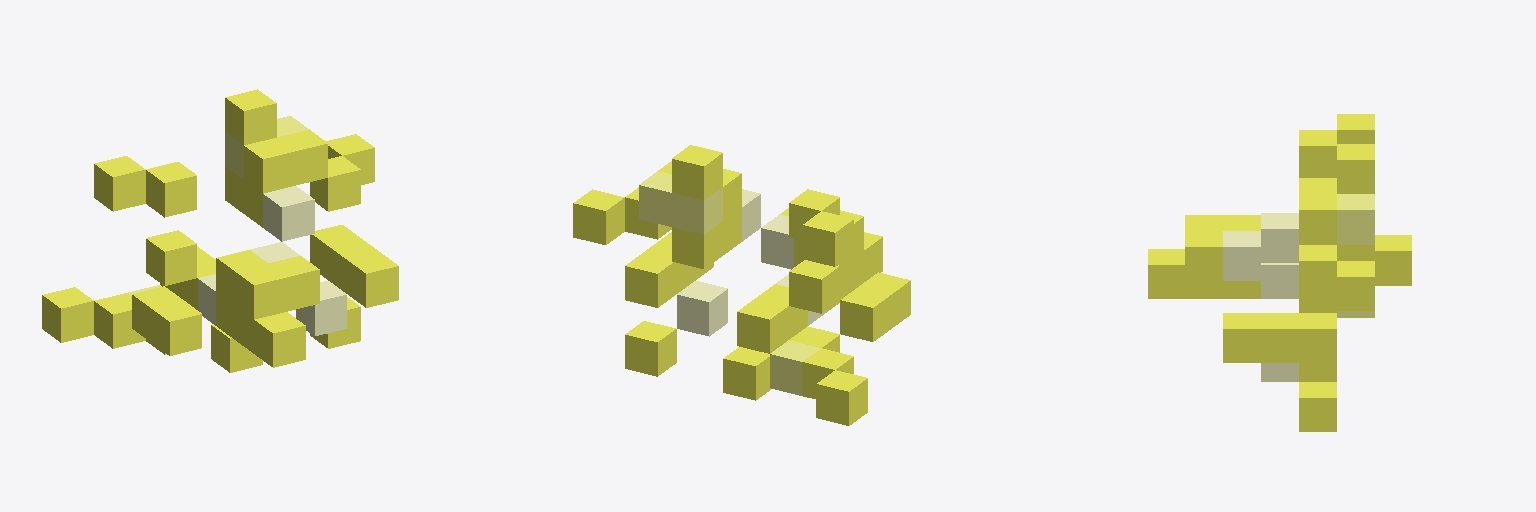
3 renders of one model, left to right at view 1: azimuth 30°, elevation 25°; view 2: azimuth 150°, elevation 25°; view 3: azimuth 270°, elevation 25°, orthographic.
Visible parts, largest first — view 1: ShotRobo1; view 2: ShotRobo1; view 3: ShotRobo1.
Part boxes in pixels (x1,y1,x2,y2): ShotRobo1: (42,89,398,372); ShotRobo1: (573,145,910,425); ShotRobo1: (1148,114,1411,431).
Bounding box in the file's own units: 9 × 7 × 7.
Materials: 1 (1 with a texture image).